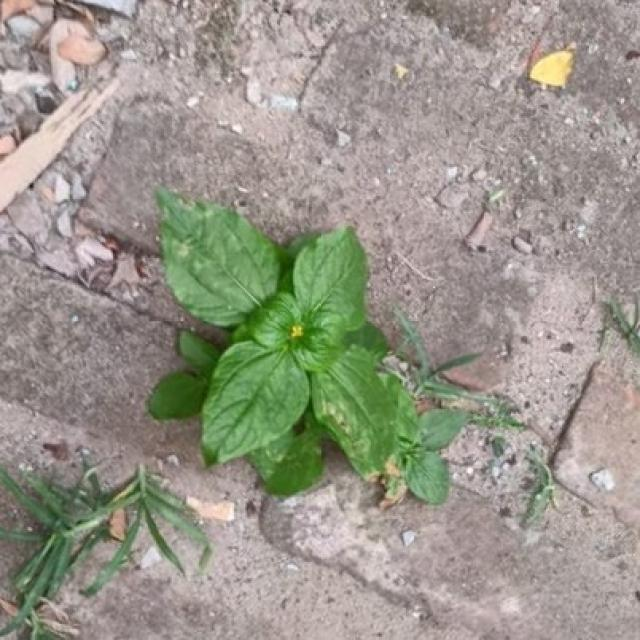weed: (151, 189, 466, 505)
